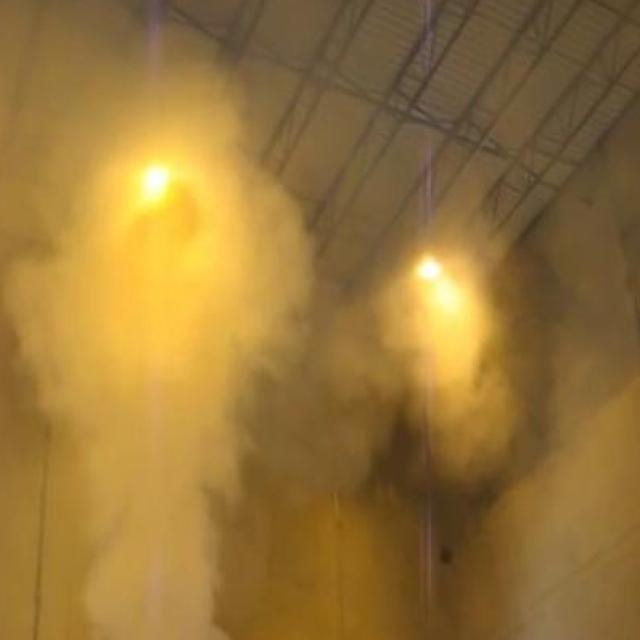fire: (5, 59, 322, 640), (381, 238, 536, 486)
